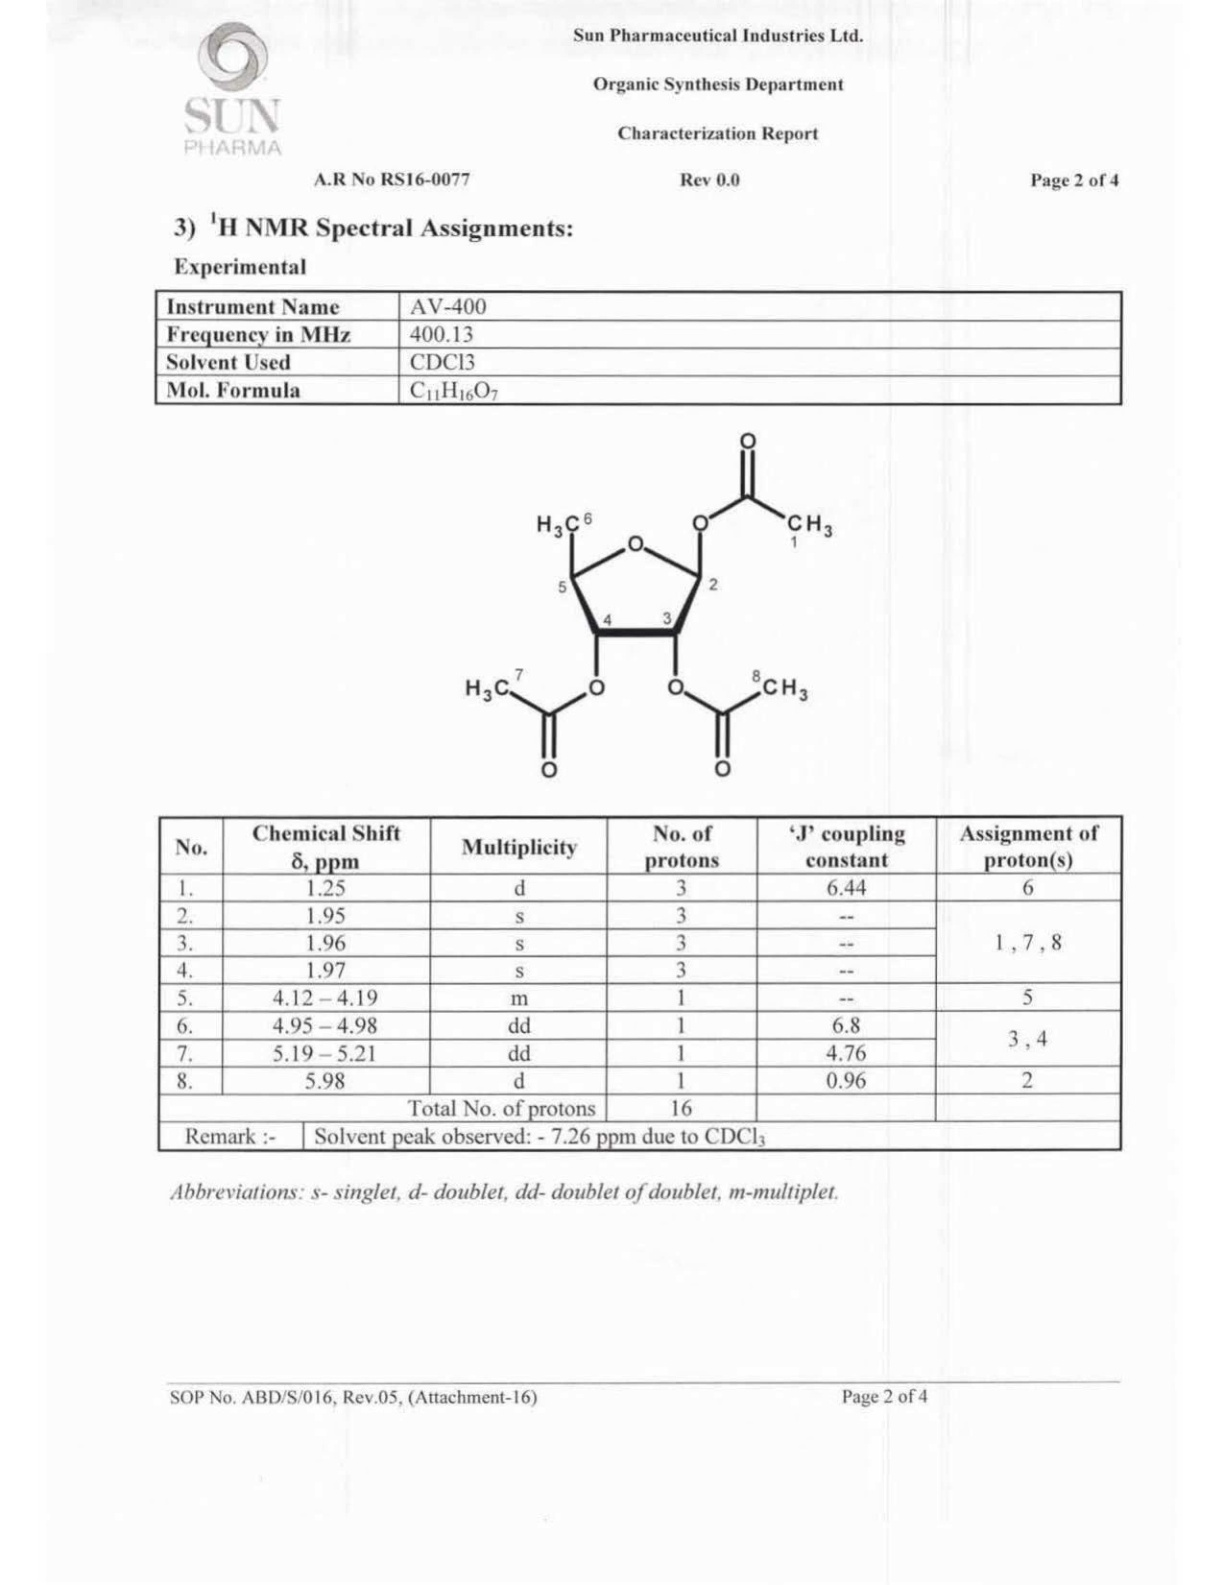full_lined: (154, 288, 1125, 407)
merged_cells: (157, 814, 1122, 1152)
